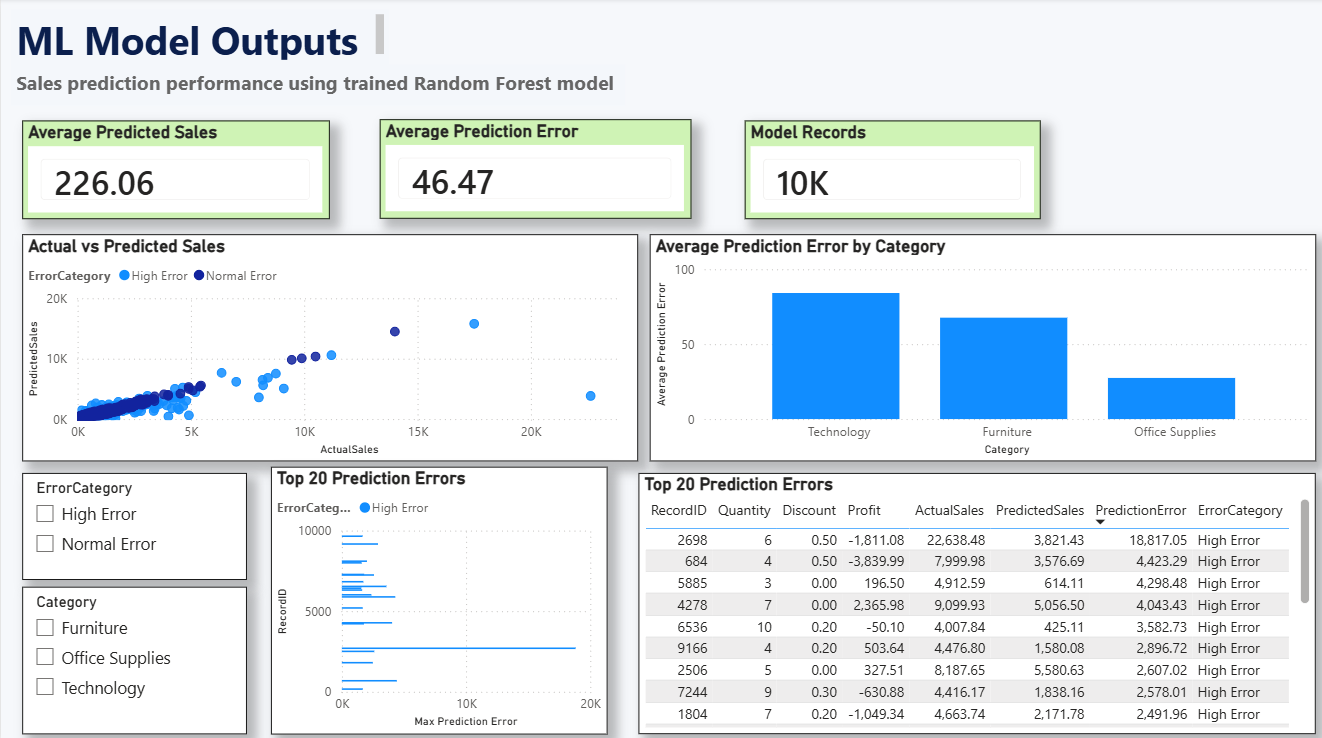

This screenshot's page, from the dashboard's own definition file:
{"tool":"powerbi","page":{"name":"ML Model Outputs","canvas":[1280,720],"ordinal":1},"visuals":[{"type":"textbox","box":[9.6,11,365,53.5],"z":0},{"type":"textbox","box":[9.6,64.5,592.8,39.8],"z":1000},{"type":"cardVisual","title":"Average Predicted Sales","fields":{"Data":["agent_insights.Average Predicted Sales"]},"box":[20.5,118.2,296.8,95.3],"z":2000},{"type":"cardVisual","title":"Average Prediction Error","fields":{"Data":["agent_insights.Average Prediction Error"]},"box":[365,116.6,300.5,96.1],"z":3000},{"type":"cardVisual","title":"Model Records","fields":{"Data":["agent_insights.Model Record Count"]},"box":[717.8,118.2,285.9,95.3],"z":4000},{"type":"scatterChart","title":"Actual vs Predicted Sales","fields":{"Series":["model_outputs.ErrorCategory"],"Y":["model_outputs.PredictedSales"],"X":["model_outputs.ActualSales"]},"box":[20.5,228,594.8,219.6],"z":5000},{"type":"clusteredBarChart","title":"Top 20 Prediction Errors","fields":{"Category":["model_outputs.RecordID"],"Series":["model_outputs.ErrorCategory"],"Y":["agent_insights.Max Prediction Error"]},"box":[260.6,452.4,324.5,258.2],"z":6000},{"type":"clusteredColumnChart","title":"Average Prediction Error by Category","fields":{"Category":["model_outputs.Category"],"Y":["agent_insights.Average Prediction Error"]},"box":[626.1,228,643,219.6],"z":7000},{"type":"tableEx","title":"Top 20 Prediction Errors","fields":{"Values":["model_outputs.RecordID","model_outputs.Quantity","model_outputs.Discount","model_outputs.Profit","model_outputs.ActualSales","model_outputs.PredictedSales","model_outputs.PredictionError","model_outputs.ErrorCategory"]},"box":[615.3,458.4,653.9,252.1],"z":8000},{"type":"slicer","fields":{"Values":["model_outputs.ErrorCategory"]},"box":[20.6,458.3,216.8,102.9],"z":9000},{"type":"slicer","fields":{"Values":["model_outputs.Category"]},"box":[20.6,568.1,216.8,142.7],"z":10000}]}

Visuals, with their boxes in screenshot pixels (x1, y1, x2, y2), scaled from the page's 1280x720 canvas onto the 1322x738 screenshot:
textbox: BBox(10, 11, 387, 66)
textbox: BBox(10, 66, 622, 107)
"Average Predicted Sales" cardVisual: BBox(21, 121, 328, 219)
"Average Prediction Error" cardVisual: BBox(377, 120, 687, 218)
"Model Records" cardVisual: BBox(741, 121, 1037, 219)
"Actual vs Predicted Sales" scatterChart: BBox(21, 234, 635, 459)
"Top 20 Prediction Errors" clusteredBarChart: BBox(269, 464, 604, 728)
"Average Prediction Error by Category" clusteredColumnChart: BBox(647, 234, 1311, 459)
"Top 20 Prediction Errors" tableEx: BBox(635, 470, 1311, 728)
slicer - model_outputs.ErrorCategory: BBox(21, 470, 245, 575)
slicer - model_outputs.Category: BBox(21, 582, 245, 729)
